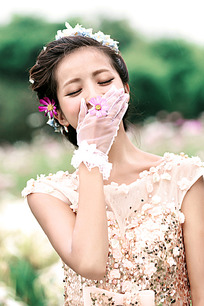face: (59, 46, 122, 136)
